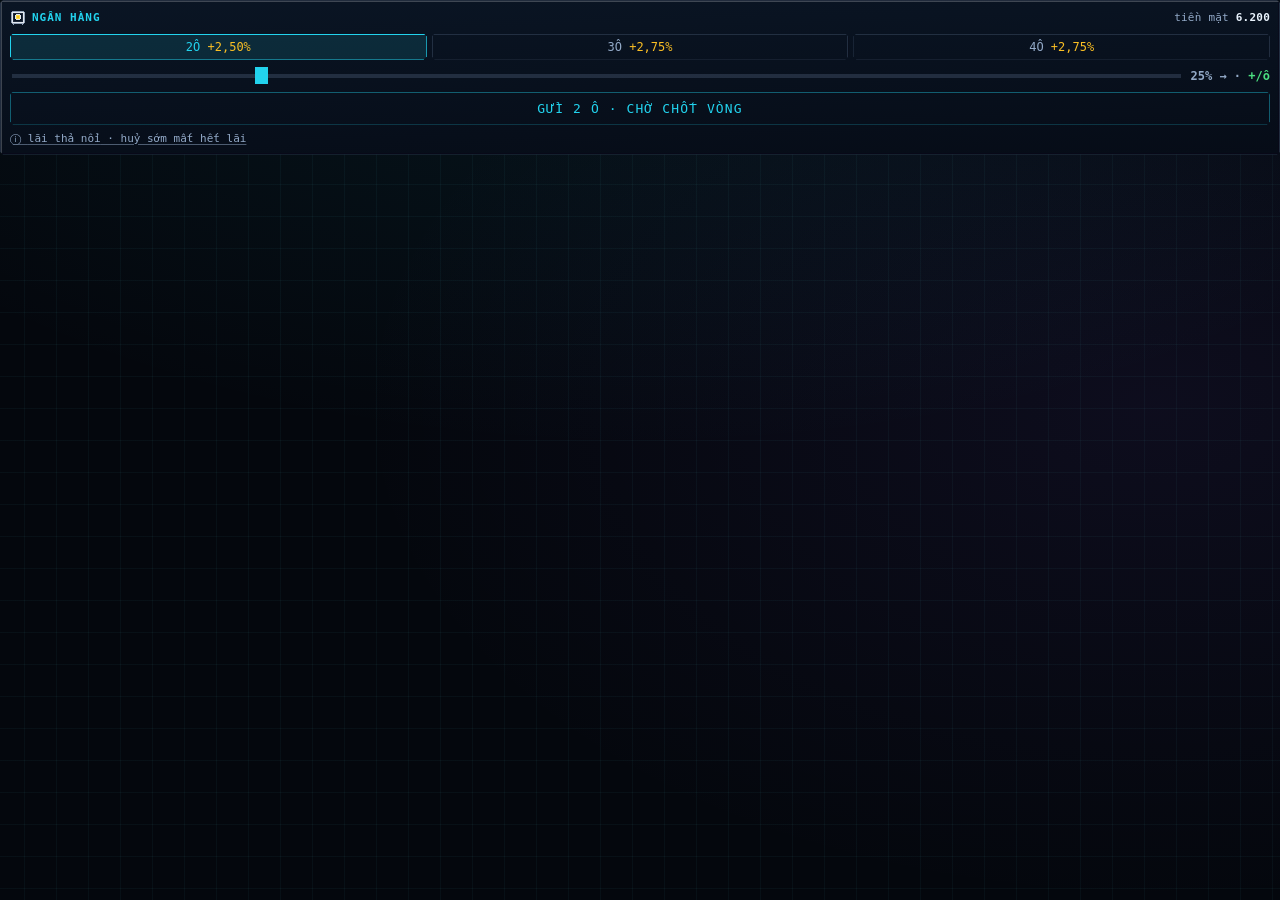
IV. v54 (D405) — LUẬT SỔ đổi theo cờ trận `tiet_kiem_kinh_te` › từng cờ đổi ĐÚNG câu của nó: chỉ thả nổi ⇒ câu lạm phát giữ nguyên, không có câu đổ vỡ
The width and height of the screenshot is (1280, 900).
Click the button "ⓘ lãi thả nổi · huỷ sớm mất hết lãi". click: [64, 138]
box: [10,132,1270,144]
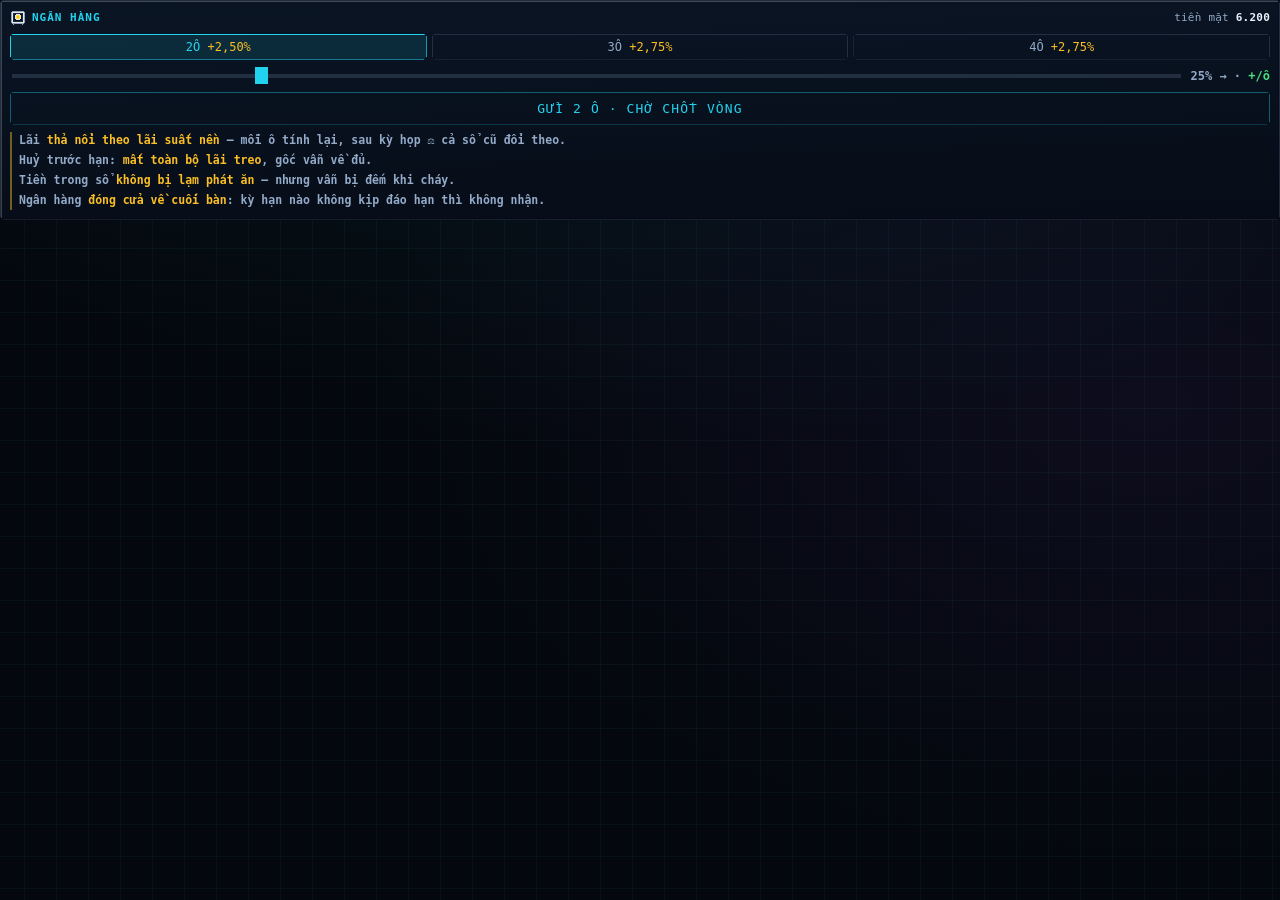
Expected: the element that starts with "Lãi" is shown, [19,132,566,146]
Expected: the text "không bị lạm phát ăn" is shown, [116,173,254,187]
